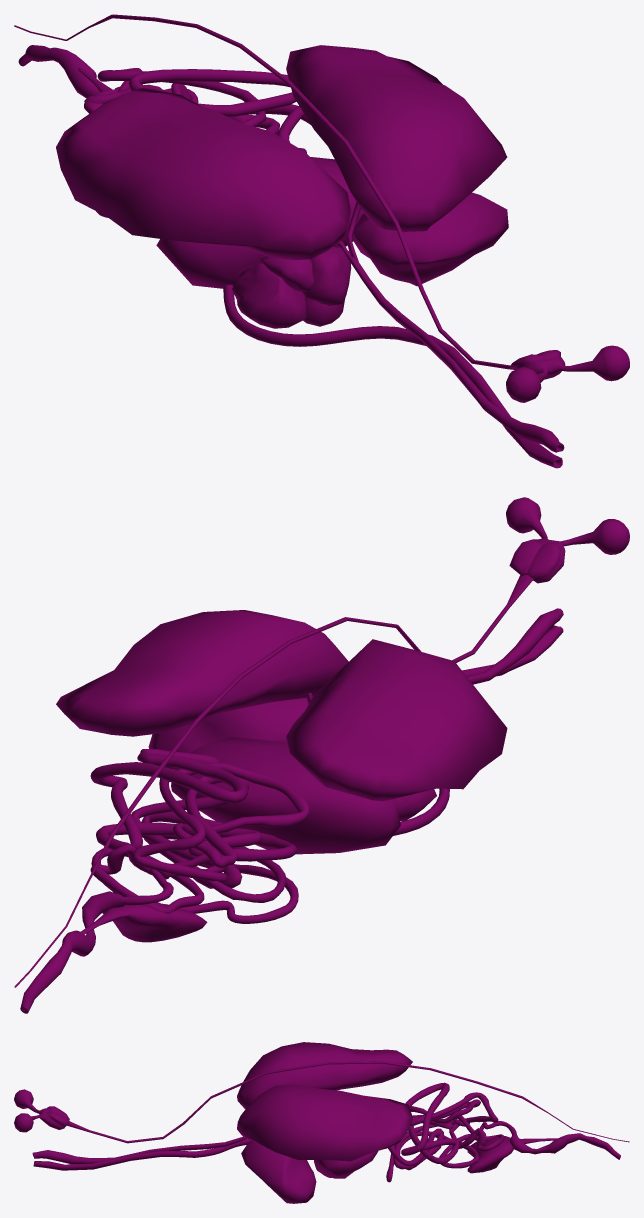
The model's file is TurtleOrganMesh.obj.
3 renders of one model, top to bottom at view 1: azimuth 30°, elevation 25°; view 2: azimuth 150°, elevation 25°; view 3: azimuth 270°, elevation 25°, orthographic. The views are drawn at different scales.
Parts seen in each view (by area): view 1: OrganMeshes Geometry Lung, OrganMeshes Geometry Intestines, OrganMeshes Geometry GallBladder, OrganMeshes Geometry Eyes, OrganMeshes Geometry Esophagus, OrganMeshes Geometry Stomach, Trachea OrganMeshes Geometry, OrganMeshes Geometry Heart Heart3, OrganMeshes Geometry Heart Heart1, OrganMeshes Geometry Heart4 Heart, OrganMeshes Geometry Heart Heart; view 2: OrganMeshes Geometry Lung, OrganMeshes Geometry Intestines, OrganMeshes Geometry Stomach, OrganMeshes Geometry Eyes, OrganMeshes Geometry GallBladder, OrganMeshes Geometry Bladder, OrganMeshes Geometry Esophagus, Trachea OrganMeshes Geometry, OrganMeshes Geometry Heart Heart3; view 3: OrganMeshes Geometry Lung, OrganMeshes Geometry Intestines, OrganMeshes Geometry Eyes, OrganMeshes Geometry GallBladder, OrganMeshes Geometry Esophagus, Trachea OrganMeshes Geometry, OrganMeshes Geometry Bladder, OrganMeshes Geometry Stomach.
Boxes of the visible parts, bbox=[...] form: OrganMeshes Geometry Lung: bbox=[56, 45, 507, 260]; OrganMeshes Geometry Intestines: bbox=[18, 45, 310, 217]; OrganMeshes Geometry GallBladder: bbox=[352, 192, 508, 286]; OrganMeshes Geometry Eyes: bbox=[14, 14, 629, 402]; OrganMeshes Geometry Esophagus: bbox=[223, 284, 562, 468]; OrganMeshes Geometry Stomach: bbox=[156, 157, 364, 288]; Trachea OrganMeshes Geometry: bbox=[335, 201, 564, 452]; OrganMeshes Geometry Heart Heart3: bbox=[232, 263, 306, 328]; OrganMeshes Geometry Heart Heart1: bbox=[302, 246, 351, 305]; OrganMeshes Geometry Heart4 Heart: bbox=[260, 256, 313, 291]; OrganMeshes Geometry Heart Heart: bbox=[303, 296, 345, 326]; OrganMeshes Geometry Lung: bbox=[56, 610, 507, 801]; OrganMeshes Geometry Intestines: bbox=[20, 749, 309, 1013]; OrganMeshes Geometry Stomach: bbox=[171, 737, 400, 854]; OrganMeshes Geometry Eyes: bbox=[14, 497, 629, 987]; OrganMeshes Geometry GallBladder: bbox=[148, 698, 308, 768]; OrganMeshes Geometry Bladder: bbox=[80, 893, 207, 942]; OrganMeshes Geometry Esophagus: bbox=[393, 625, 563, 835]; Trachea OrganMeshes Geometry: bbox=[306, 608, 563, 704]; OrganMeshes Geometry Heart Heart3: bbox=[395, 789, 436, 821]; OrganMeshes Geometry Lung: bbox=[237, 1042, 412, 1161]; OrganMeshes Geometry Intestines: bbox=[386, 1082, 620, 1182]; OrganMeshes Geometry Eyes: bbox=[14, 1061, 629, 1143]; OrganMeshes Geometry GallBladder: bbox=[241, 1141, 316, 1203]; OrganMeshes Geometry Esophagus: bbox=[33, 1139, 250, 1170]; Trachea OrganMeshes Geometry: bbox=[32, 1136, 246, 1164]; OrganMeshes Geometry Bladder: bbox=[467, 1136, 557, 1173]; OrganMeshes Geometry Stomach: bbox=[314, 1151, 378, 1178].
Bounding box in the file's own units: 6.68 × 3.36 × 16.74.
